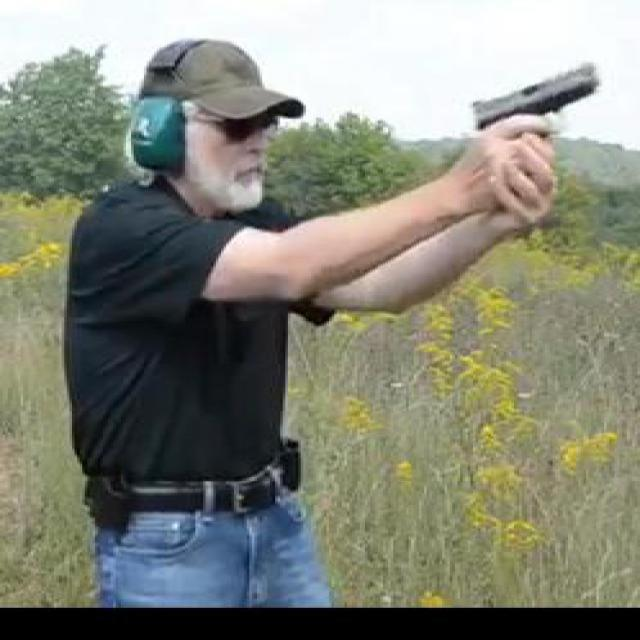weapon: (469, 58, 602, 180)
